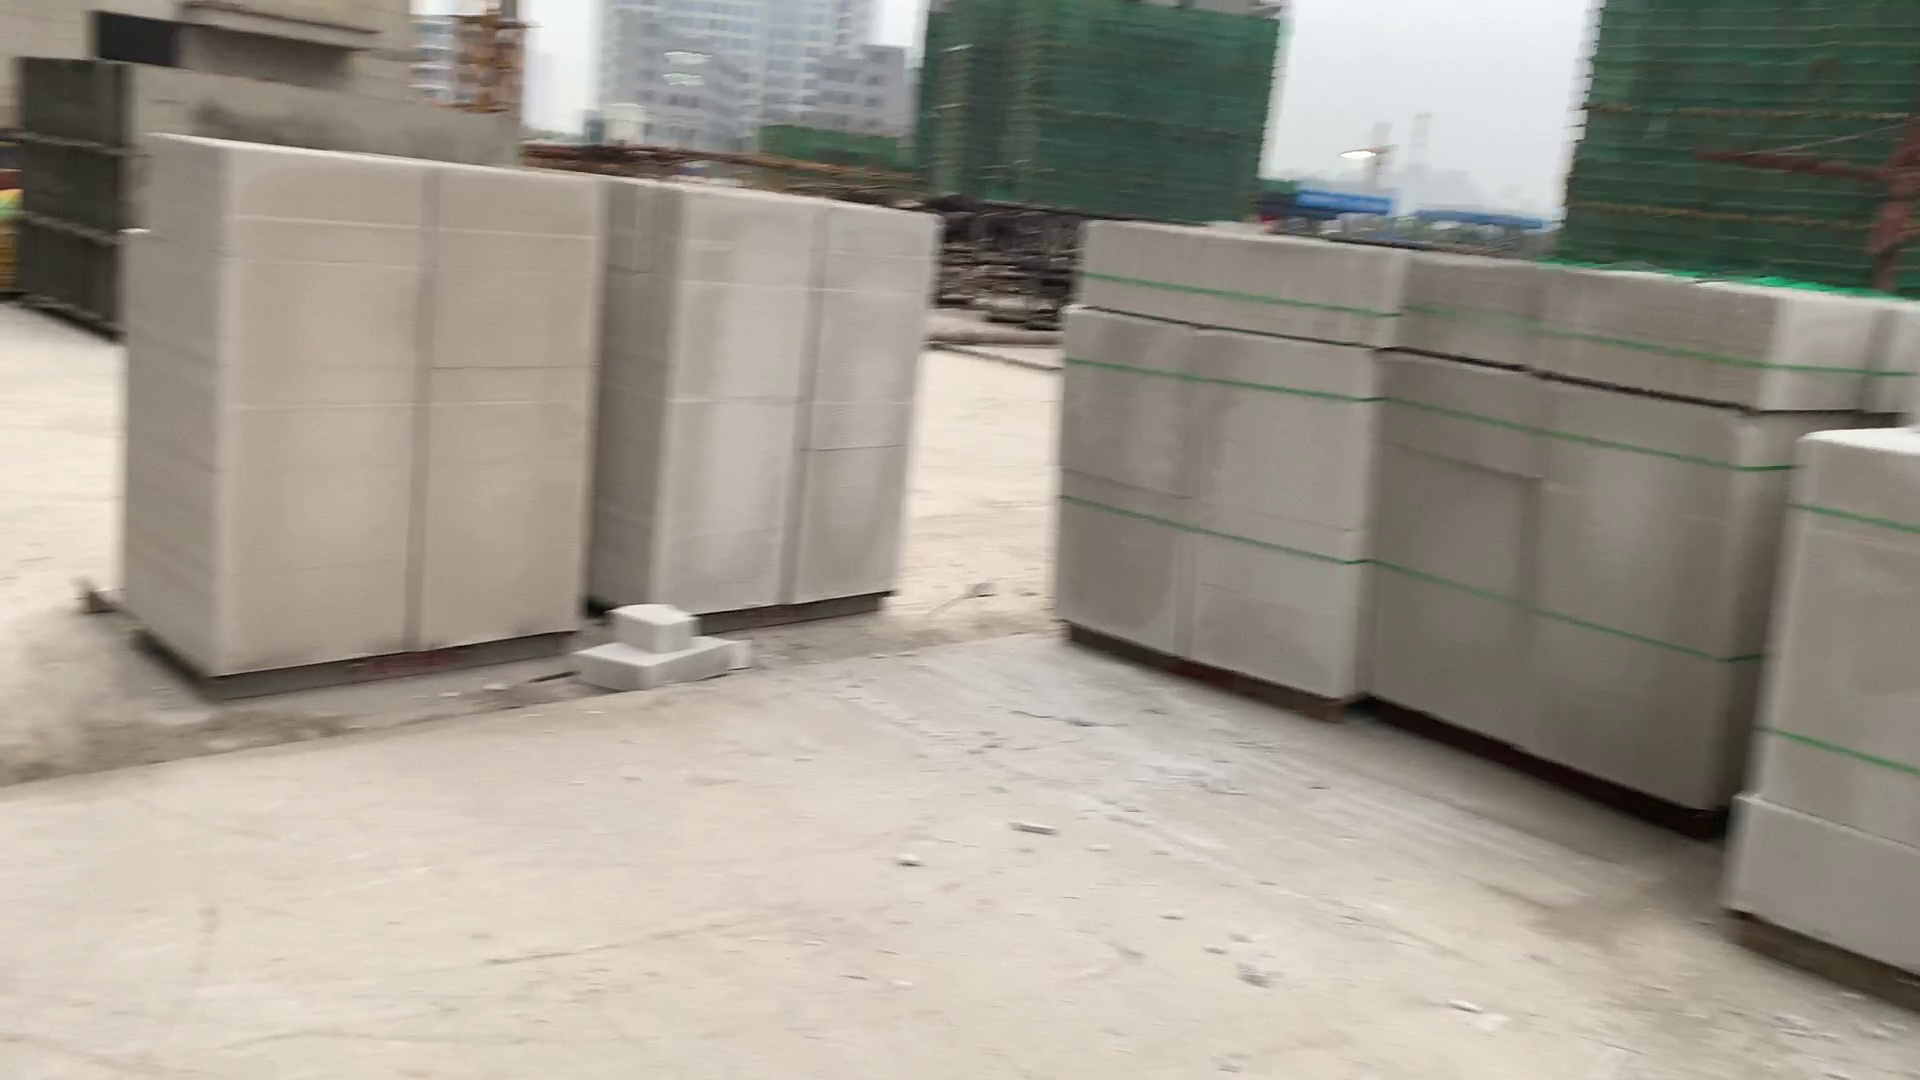brickwork: (127, 135, 596, 673), (1396, 272, 1753, 807), (1054, 210, 1365, 713), (624, 185, 906, 607), (1739, 427, 1920, 978)
